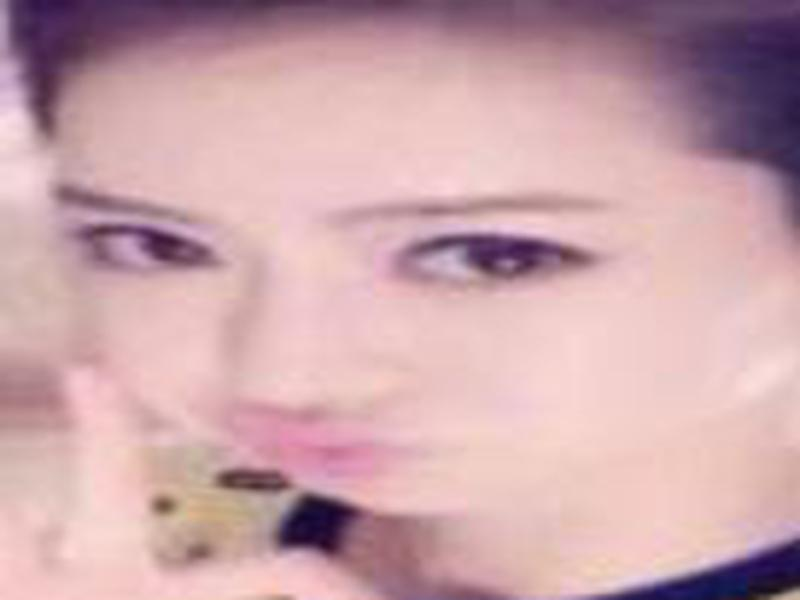without_mask: (44, 68, 753, 518)
